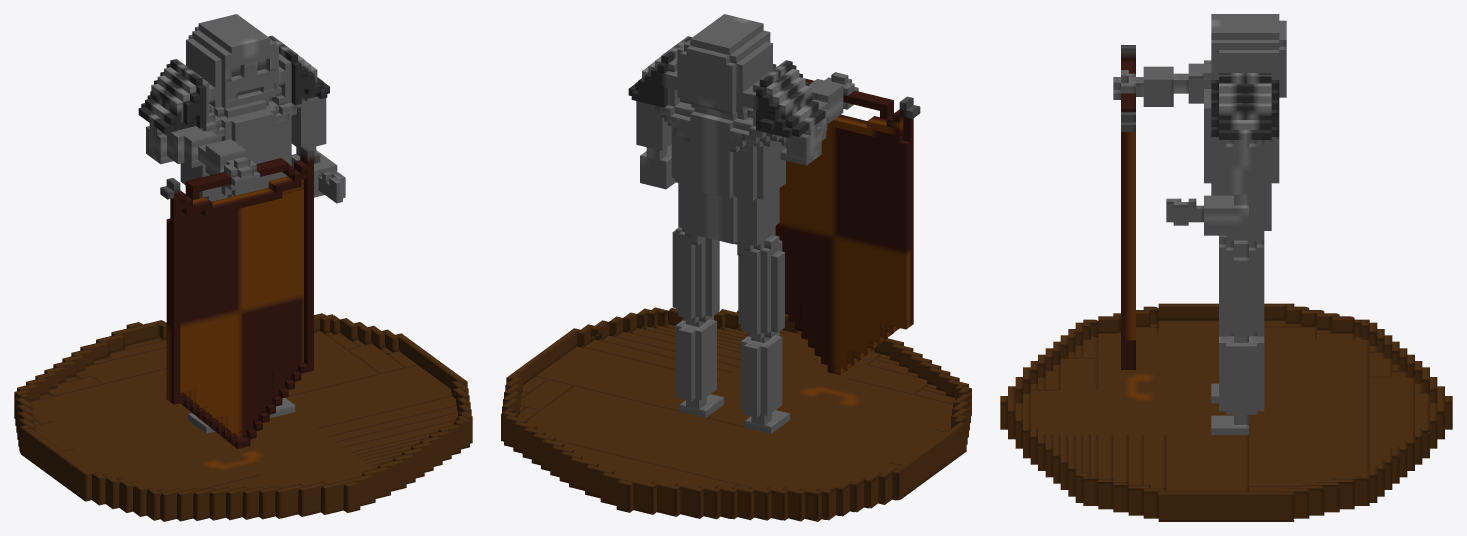
The model's file is the guardian.obj.
3 renders of one model, left to right at view 1: azimuth 30°, elevation 25°; view 2: azimuth 150°, elevation 25°; view 3: azimuth 270°, elevation 25°, orthographic. The views are drawn at different scales.
Parts seen in each view (by area): view 1: Model; view 2: Model; view 3: Model.
Part boxes in pixels (x1=…): Model: x1=14, y1=14, x2=472, y2=521; Model: x1=501, y1=14, x2=971, y2=521; Model: x1=1000, y1=14, x2=1452, y2=521.
Size of the model in its own units: 32 by 31.47 by 32.
1 material, 1 textured.
